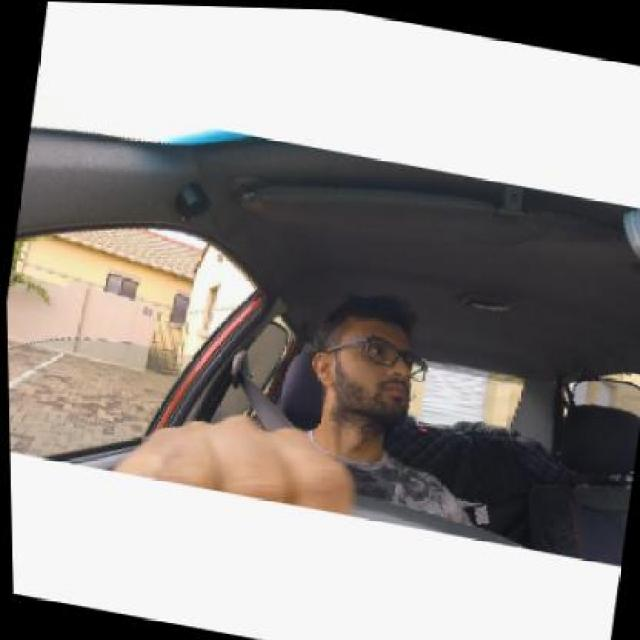person: (306, 290, 433, 434)
